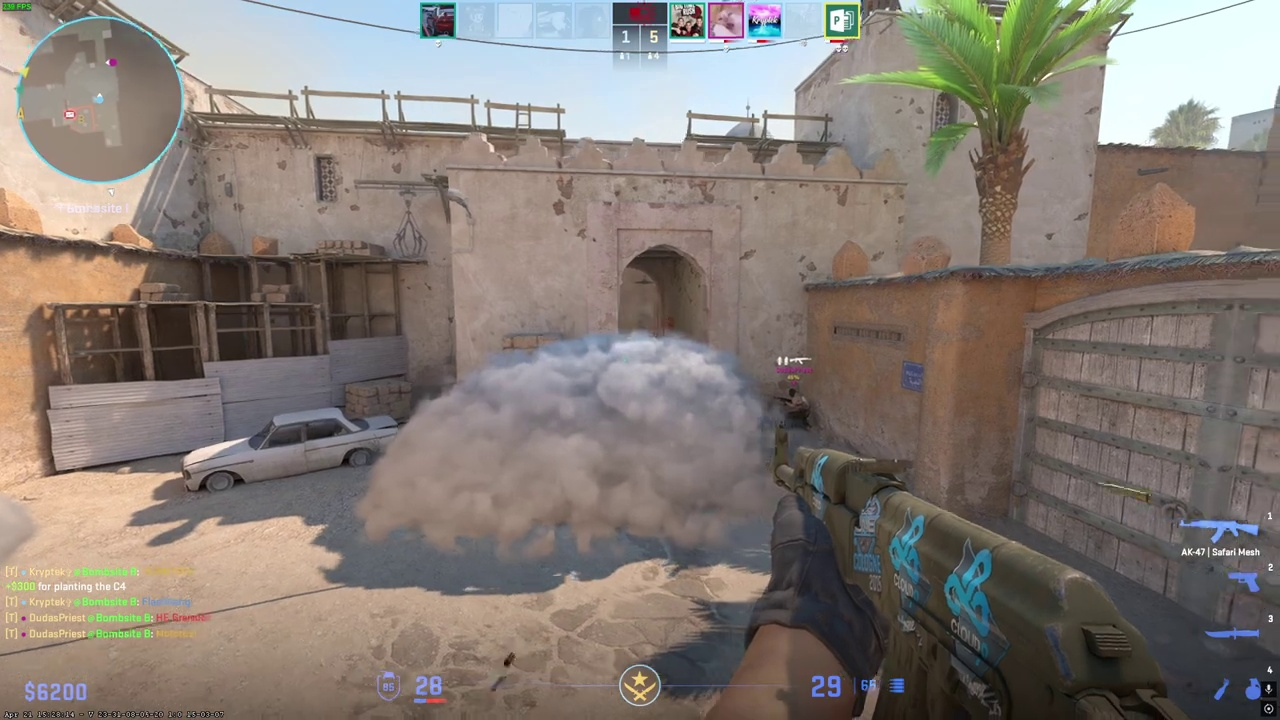Terrorist: (784, 388, 810, 428)
